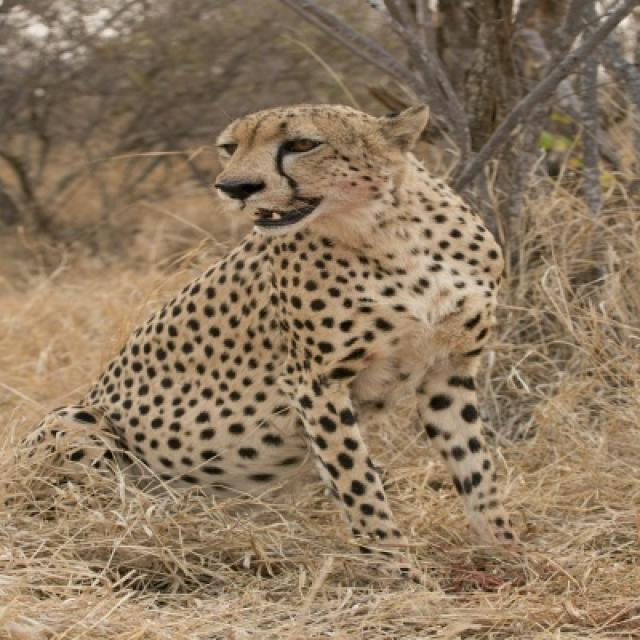Cheetah: (80, 104, 518, 563)
